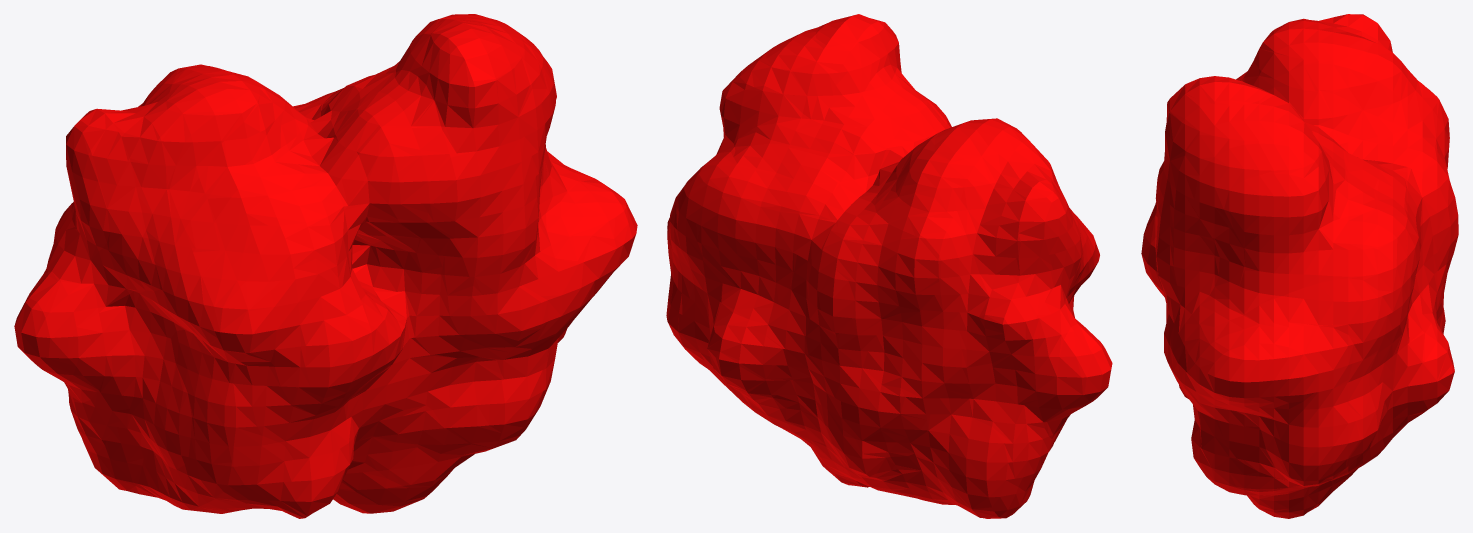
Rendered from Peptidyl_glycine_alpha_amidati_coarse.dae.
3 views of the same model, side by side, from view 1: azimuth 30°, elevation 25°; view 2: azimuth 150°, elevation 25°; view 3: azimuth 270°, elevation 25° (orthographic). The views are drawn at different scales.
Parts seen in each view (by area): view 1: Peptidyl_glycine_alpha_amidati; view 2: Peptidyl_glycine_alpha_amidati; view 3: Peptidyl_glycine_alpha_amidati.
Part boxes in pixels (left/top/right/bottom): Peptidyl_glycine_alpha_amidati: left=14, top=14, right=637, bottom=518; Peptidyl_glycine_alpha_amidati: left=666, top=14, right=1112, bottom=518; Peptidyl_glycine_alpha_amidati: left=1141, top=14, right=1458, bottom=518.
Bounding box in the file's own units: 67.77 × 58.66 × 37.13.
